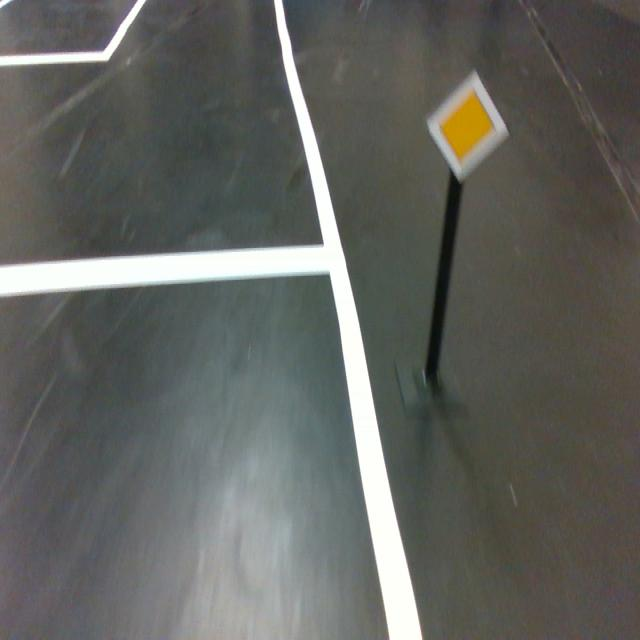priority-sign: (426, 67, 510, 184)
